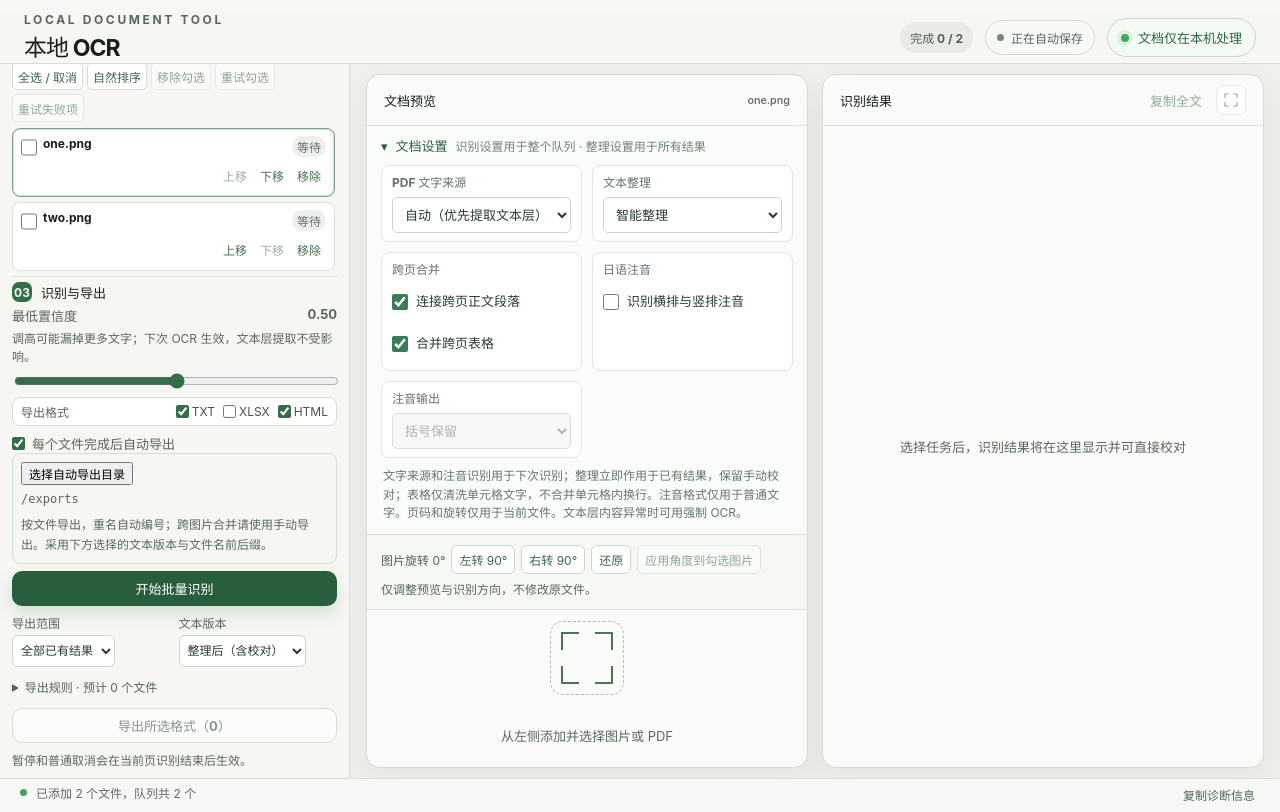
Test: result retention and automatic exports › keeps OCR successful on export failure, continues the batch and retries only export
(page scrolled)
Click the button "开始批量识别" at (174, 588), box top-left (12, 570), bottom-right (337, 606)
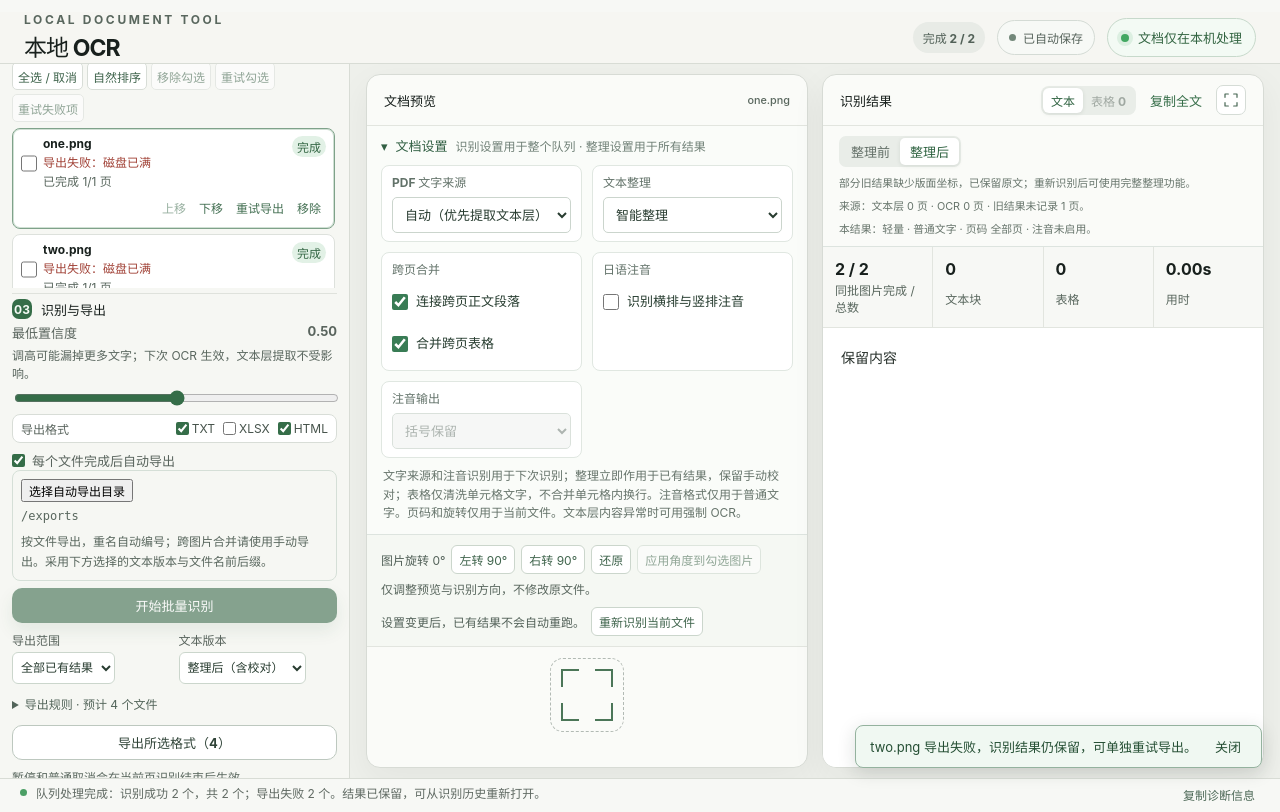
Result: the text "磁盘已满" is shown at top-left (43, 155), bottom-right (151, 170)
Click the button "重试导出" at (260, 207), box top-left (231, 193), bottom-right (289, 221)
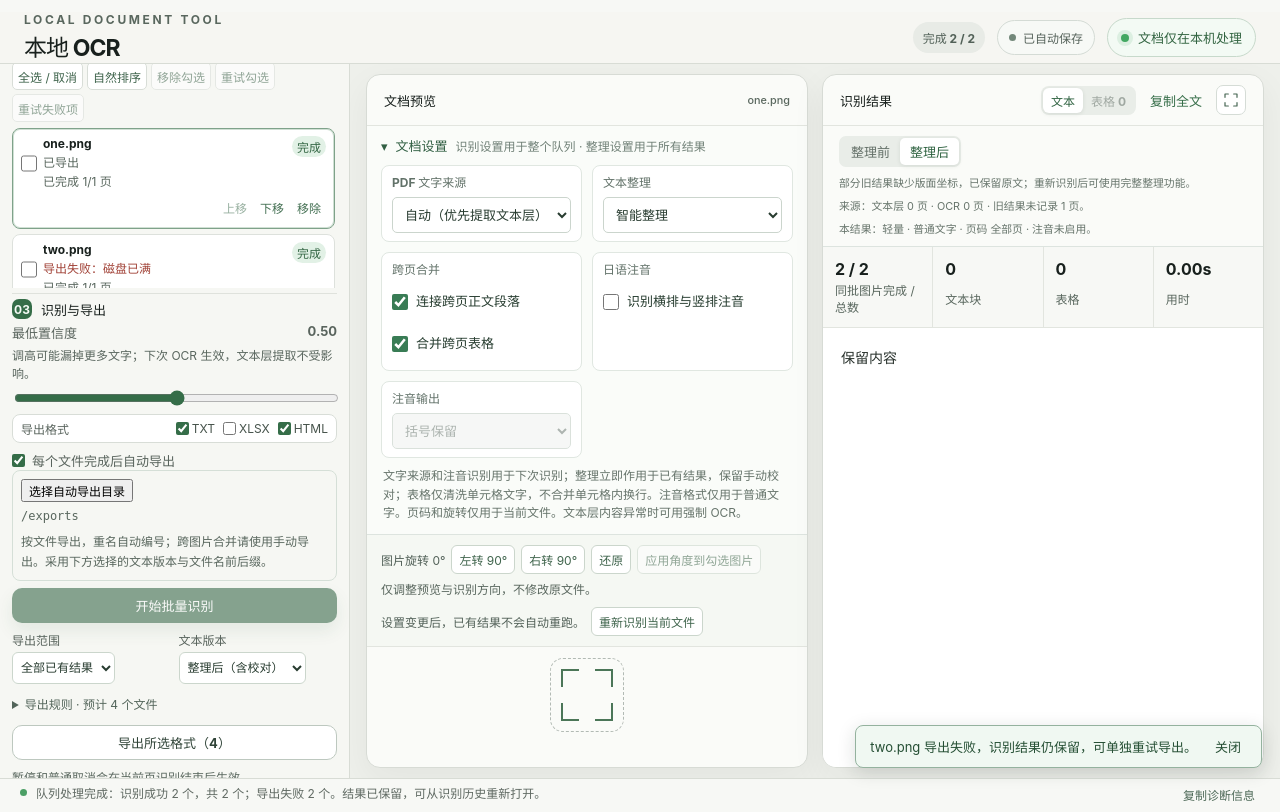
Result: the element with class "task-item" shows "已导出" at top-left (43, 136), bottom-right (286, 189)
